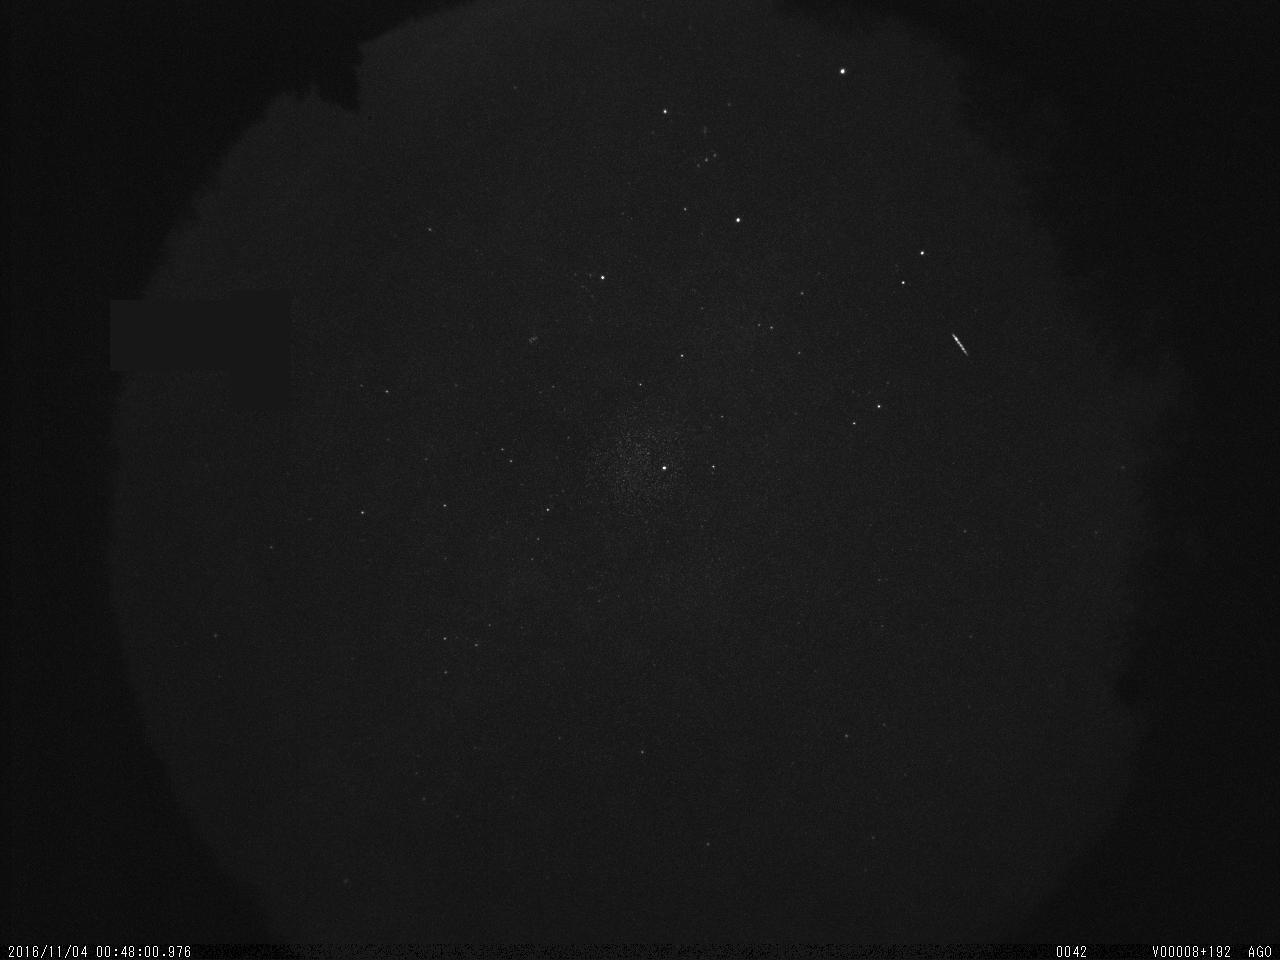meteor: (926, 301, 992, 371)
